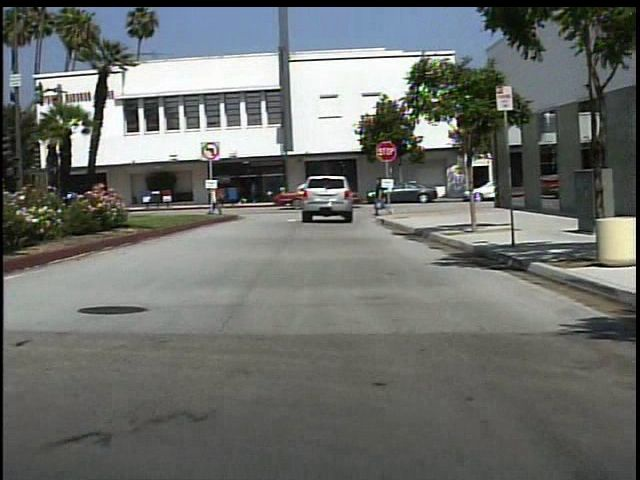person: (203, 179, 233, 220), (371, 174, 394, 219), (254, 179, 255, 204)
